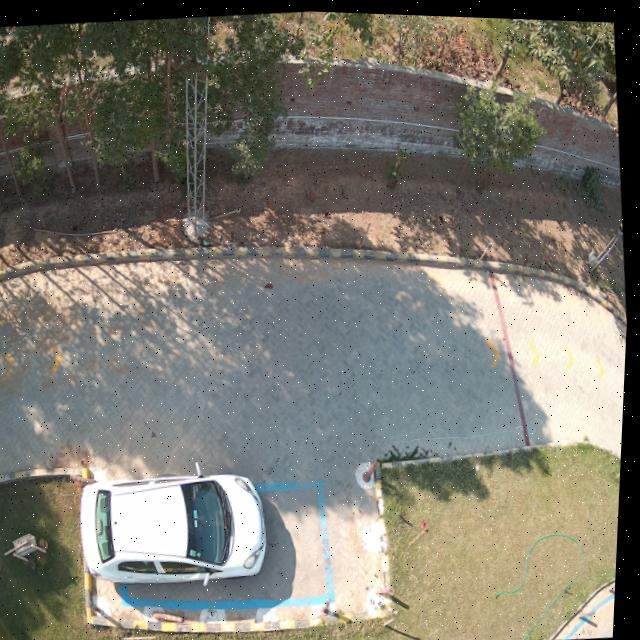car: (84, 472, 271, 582)
